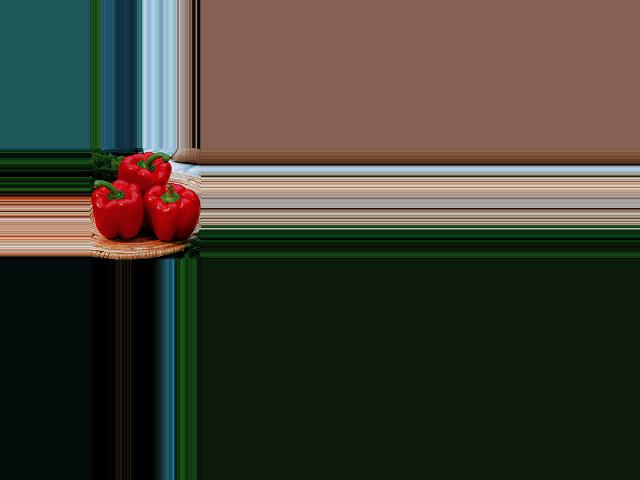bell_pepper: (92, 179, 151, 247)
